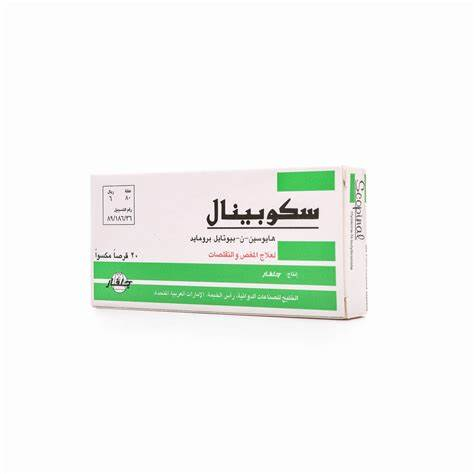Medicine: (83, 166, 376, 331)
